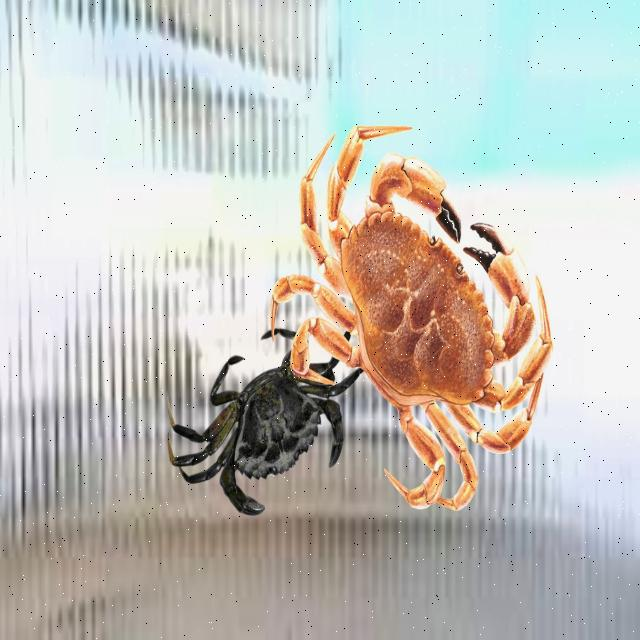European_Green_Crab: (158, 286, 386, 557)
